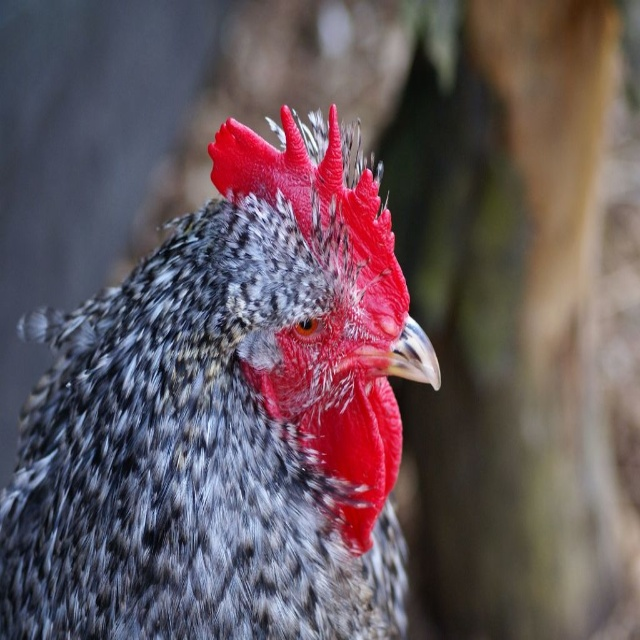Chicken: (0, 103, 441, 640)
